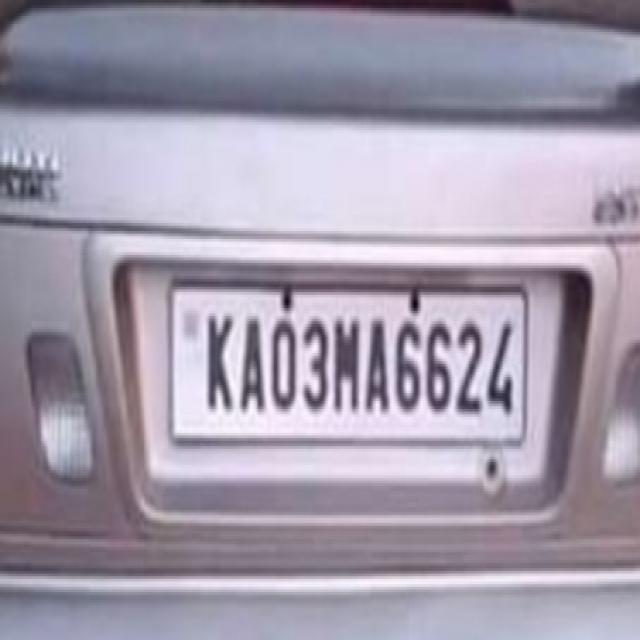0: (269, 314, 298, 416)
3: (299, 319, 331, 422)
4: (487, 310, 514, 416)
6: (424, 306, 454, 426), (395, 309, 421, 418)
A: (364, 305, 390, 420), (239, 312, 265, 423)
K: (203, 306, 234, 422)
M: (331, 309, 360, 424)
